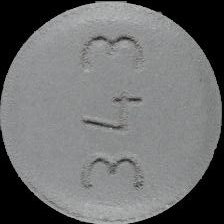51655-066: (0, 0, 224, 224)
